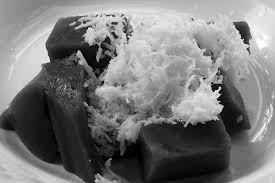kanompiakpoon: (36, 10, 271, 183)
